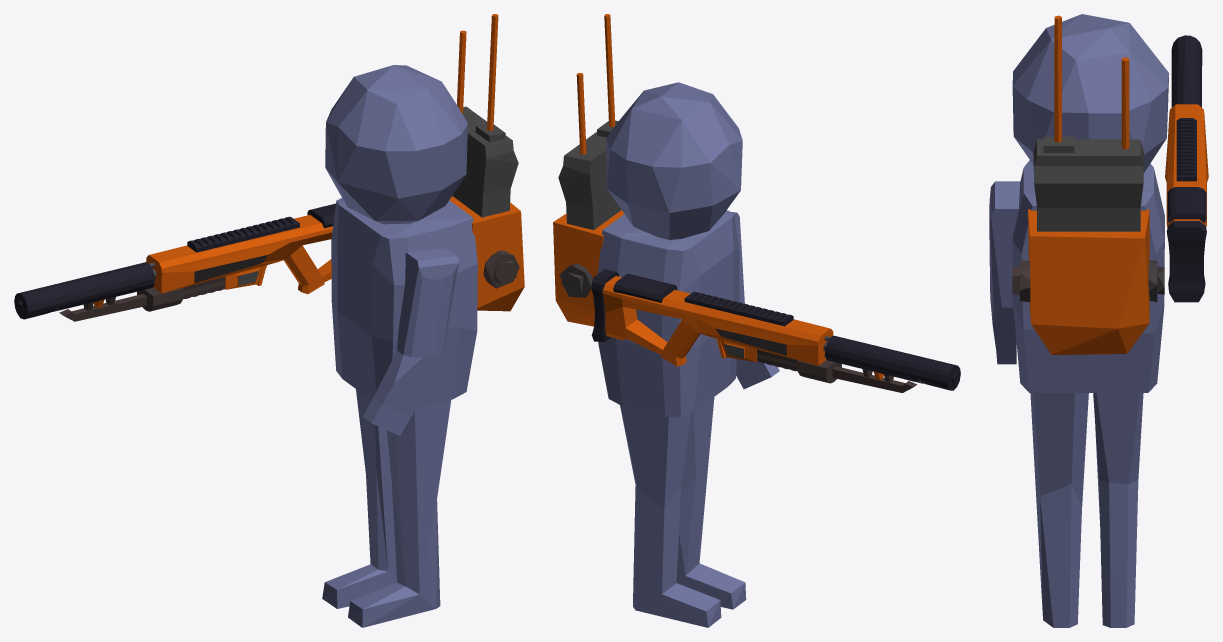
File: Astronaut.fbx
3 renders of one model, left to right at view 1: azimuth 30°, elevation 25°; view 2: azimuth 150°, elevation 25°; view 3: azimuth 270°, elevation 25°, orthographic. The views are drawn at different scales.
Parts seen in each view (by area): view 1: Cube, Sphere, Cube.004, Cube.008, Cube.009, Cube.003, Cube.002, Cylinder.004, Cube.001, Cube.015, Cube.011, Cylinder.003 (+1 smaller); view 2: Sphere, Cube, Cube.003, Cube.009, Cube.004, Cube.002, Cylinder.004, Cube.001, Cube.015, Cube.011, Cube.008, Cube.012 (+5 smaller); view 3: Sphere, Cube.001, Cube.004, Cube, Cube.002, Cube.003, Cube.008, Cube.013, Cube.009, Cylinder.004, Cube.011, Cube.012 (+5 smaller).
Boxes of the visible parts, x1,y1,x2,y2 form: Cube: (331,198,477,408); Sphere: (325,65,467,224); Cube.004: (348,400,451,627); Cube.008: (363,248,458,435); Cube.009: (146,215,332,294); Cube.003: (322,389,396,608); Cube.002: (452,106,518,217); Cylinder.004: (14,262,154,319); Cube.001: (449,196,524,311); Cube.015: (59,287,183,321); Cube.011: (187,216,299,252); Cylinder.003: (483,250,519,288); Sphere: (606,82,742,239); Cube: (598,210,739,417); Cube.003: (620,405,721,627); Cube.009: (602,276,833,366); Cube.004: (676,397,746,609); Cube.002: (558,132,621,230); Cylinder.004: (825,335,960,390); Cube.001: (553,210,624,326); Cube.015: (797,360,917,392); Cube.011: (684,291,793,326); Cube.008: (731,212,779,389); Cube.012: (613,274,677,302); Sphere: (1012,14,1169,173); Cube.001: (1028,209,1149,354); Cube.004: (1030,393,1088,627); Cube: (1012,160,1164,392); Cube.002: (1033,139,1143,231); Cube.003: (1093,393,1143,627); Cube.008: (989,181,1020,364); Cube.013: (1166,221,1206,302); Cube.009: (1165,104,1208,228); Cylinder.004: (1171,35,1202,107); Cube.011: (1176,118,1196,181); Cube.012: (1167,187,1206,223).
Bounding box in the file's own units: 561 × 699 × 216.
